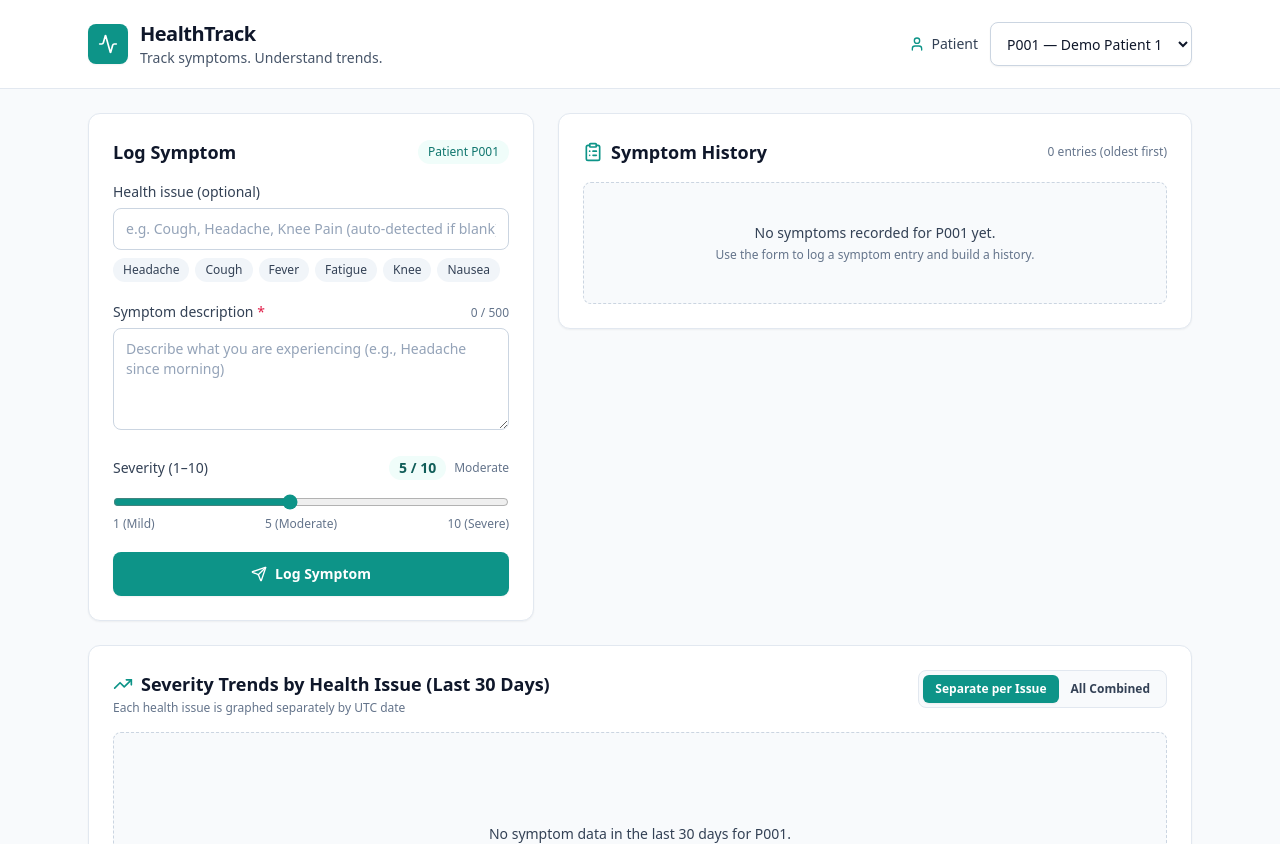
Test: HealthTrack App › preserves form values after a failed POST and succeeds on manual resubmission without auto-retrying
Expected: the text "No symptoms recorded for P001 yet." is shown, [755,223,995,242]
Type "Persistent dizziness" into the text box labelled "Symptom description *" at (311, 379), box [113,328,509,430]
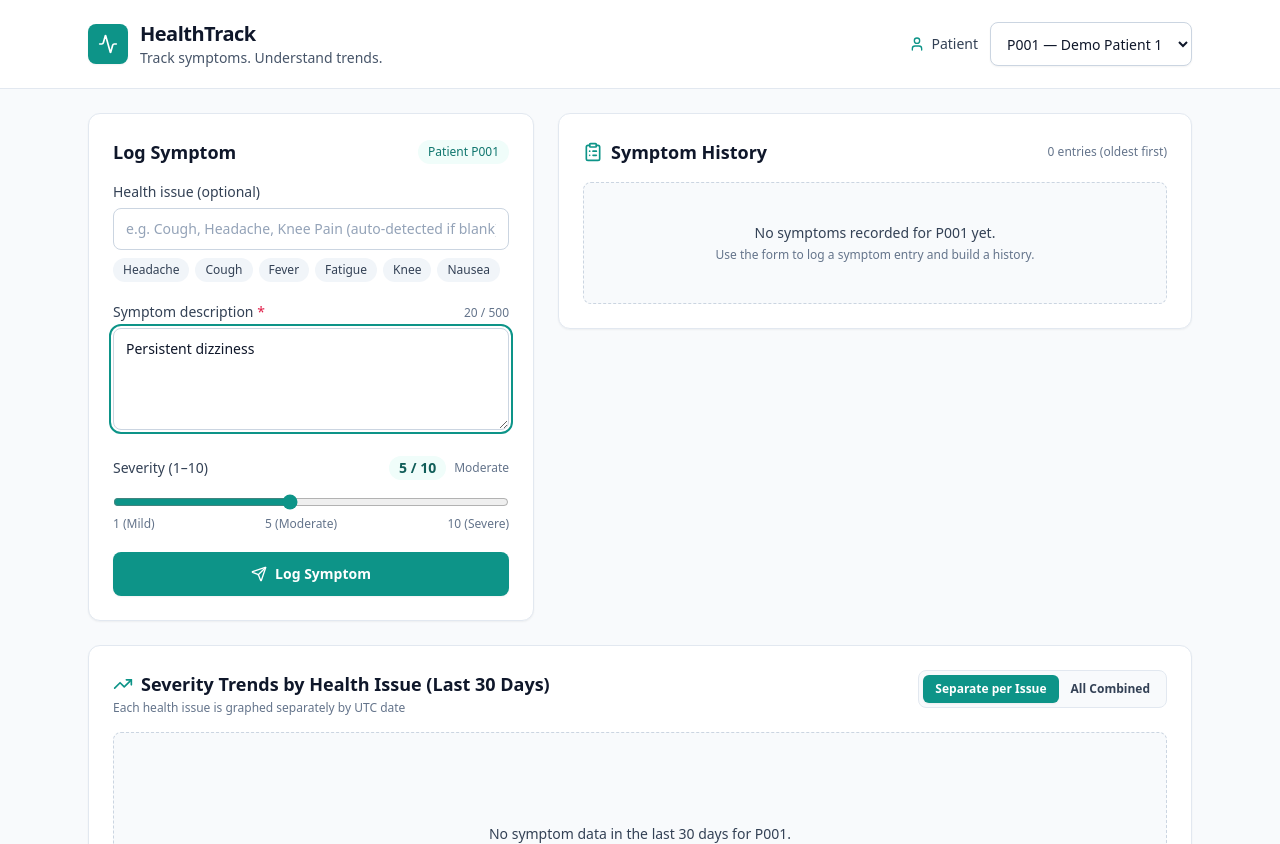
Set the slider labelled "Severity (1–10)" to "8" at (417, 502), box [113,498,509,506]
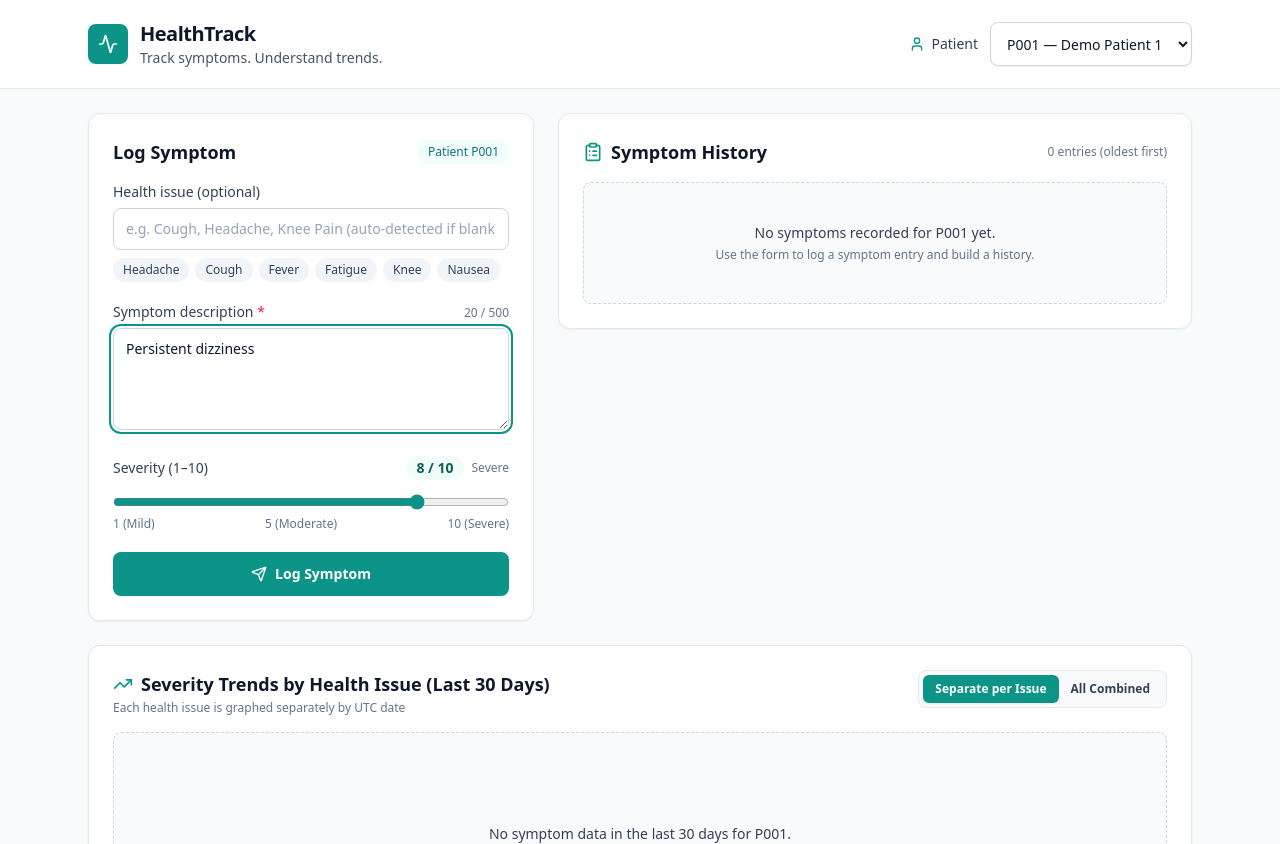
Click the button "Log Symptom" at (311, 574), box [113,552,509,596]
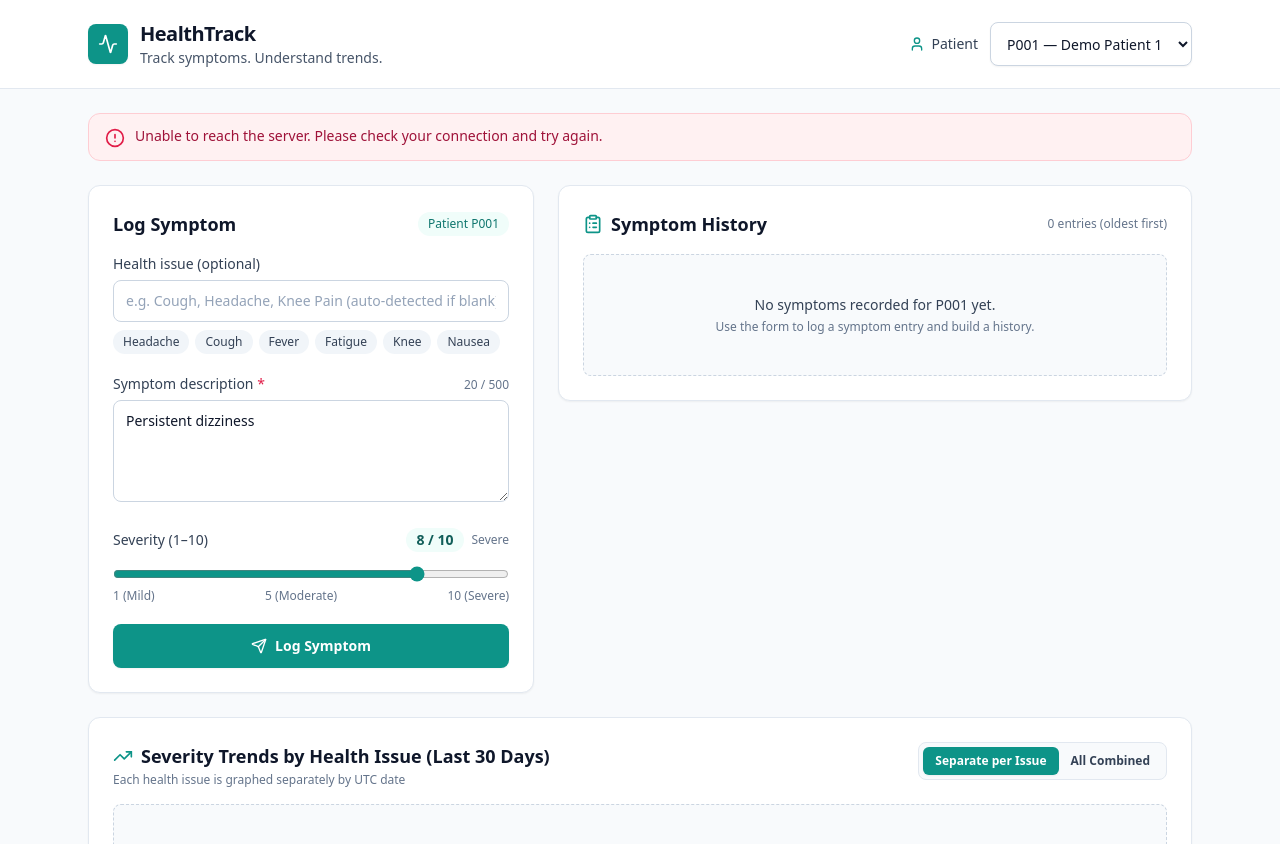
Result: the message shows "Unable to reach the server" at [135,126,603,145]
Click the button "Log Symptom" at (311, 646), box [113,624,509,668]
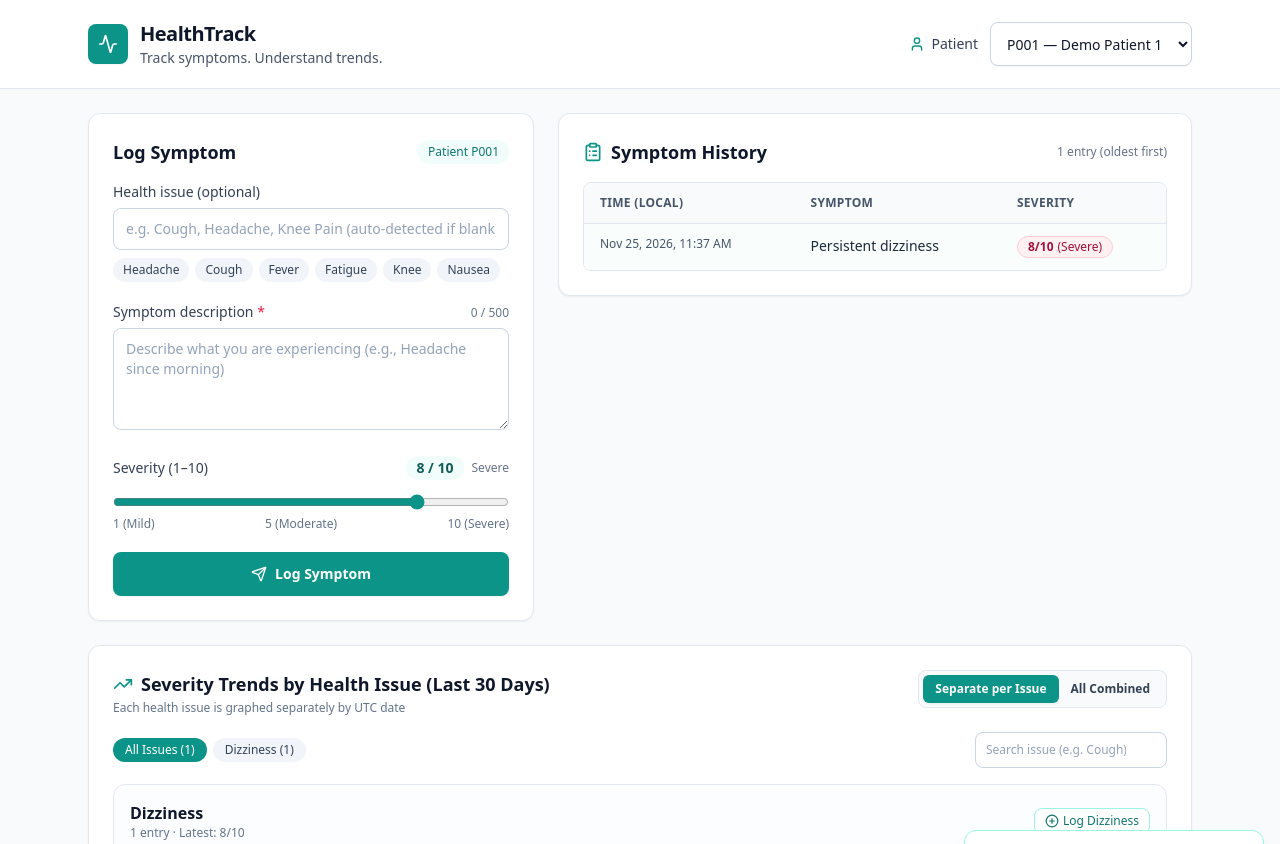
Result: the text "Persistent dizziness" is shown at [794,224,1001,270]
Result: the text box labelled "Symptom description *" is empty at [113,328,509,430]
